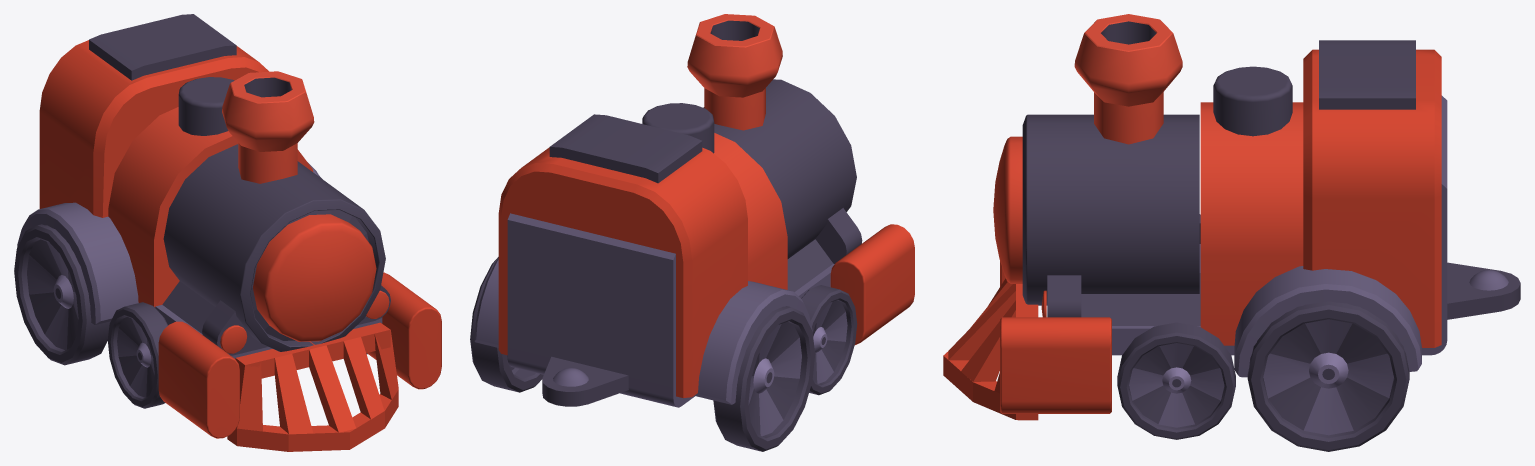
The model's file is Train_Engine_1.fbx.
3 renders of one model, left to right at view 1: azimuth 30°, elevation 25°; view 2: azimuth 150°, elevation 25°; view 3: azimuth 270°, elevation 25°, orthographic. The views are drawn at different scales.
Parts seen in each view (by area): view 1: Main_Body, Wheel_1, Wheel_2; view 2: Main_Body, Wheel_1, Wheel_2; view 3: Main_Body, Wheel_1, Wheel_2.
Part boxes in pixels (x1,y1,x2,y2): Main_Body: (17,14,441,451); Wheel_1: (14,176,321,365); Wheel_2: (107,302,367,408); Main_Body: (474,14,914,407); Wheel_1: (470,257,815,451); Wheel_2: (801,285,857,395); Main_Body: (943,14,1520,420); Wheel_1: (1247,301,1409,451); Wheel_2: (1117,214,1235,439).
Bounding box in the file's own units: 77.31 × 85.43 × 129.
Materials: 1 (1 with a texture image).
